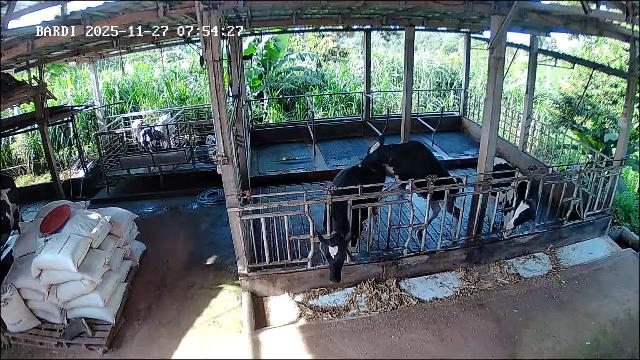mounting: (361, 140, 464, 237)
